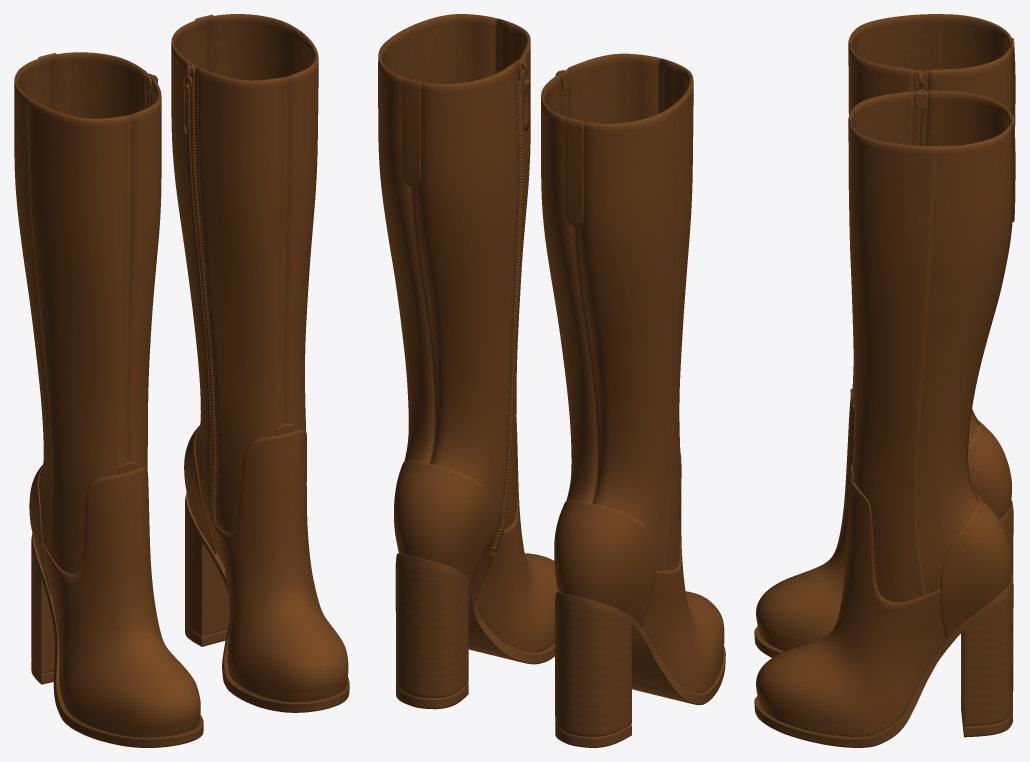
The model's file is shoe02.glb.
3 renders of one model, left to right at view 1: azimuth 30°, elevation 25°; view 2: azimuth 150°, elevation 25°; view 3: azimuth 270°, elevation 25°, orthographic. The views are drawn at different scales.
Parts seen in each view (by area): view 1: Object_6, Object_7, Object_2, Object_4, Object_5; view 2: Object_6, Object_7, Object_2, Object_4, Object_5; view 3: Object_6, Object_7, Object_2, Object_4.
Boxes of the visible parts, x1,y1,x2,y2 form: Object_6: [14, 14, 348, 701]; Object_7: [16, 53, 294, 737]; Object_2: [31, 493, 349, 747]; Object_4: [144, 63, 218, 536]; Object_5: [185, 63, 207, 301]; Object_6: [378, 14, 693, 652]; Object_7: [412, 53, 724, 693]; Object_2: [395, 553, 725, 747]; Object_4: [489, 60, 569, 552]; Object_5: [515, 59, 527, 296]; Object_6: [756, 14, 1015, 736]; Object_7: [756, 15, 1015, 651]; Object_2: [754, 500, 1013, 747]; Object_4: [913, 70, 927, 109].
Bounding box in the file's own units: 0.3527 × 0.7429 × 0.291.
5 materials, 5 textured.
